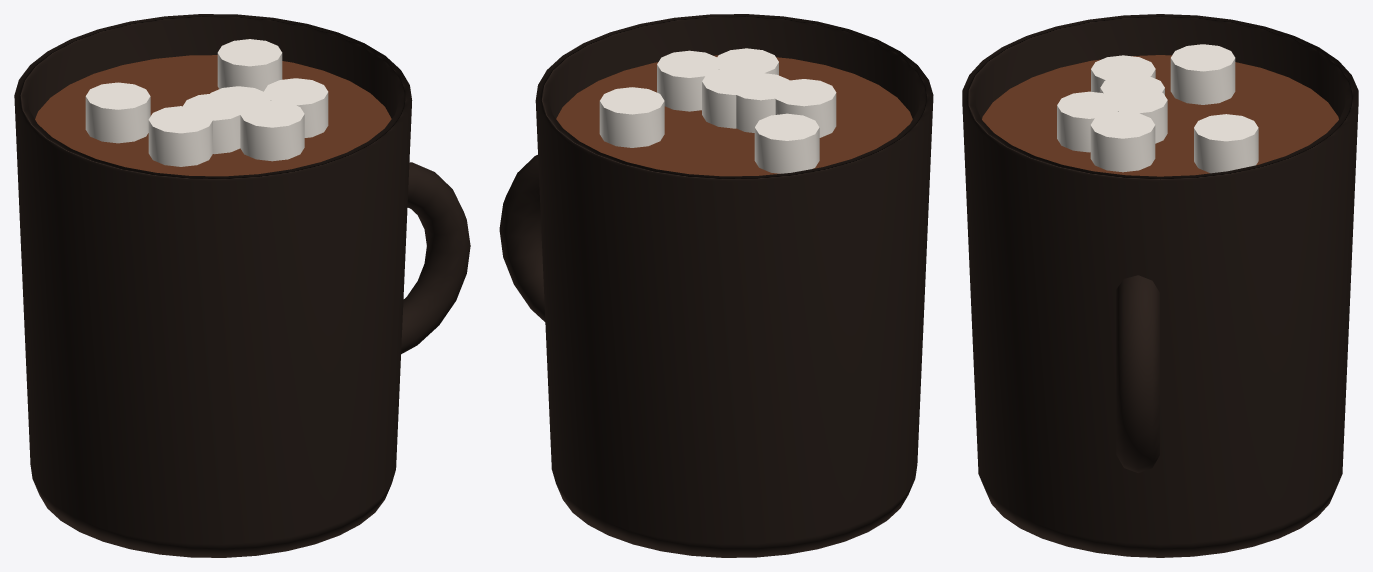
File: cocoa.glb
The picture shows the model from 3 angles, left to right: view 1: azimuth 30°, elevation 25°; view 2: azimuth 150°, elevation 25°; view 3: azimuth 270°, elevation 25°; orthographic projection.
Parts seen in each view (by area): view 1: cocoa; view 2: cocoa; view 3: cocoa.
Boxes of the visible parts, x1,y1,x2,y2 form: cocoa: (14,14,470,557); cocoa: (499,14,933,557); cocoa: (962,14,1358,557).
Size of the model in its own units: 0.1038 by 0.093 by 0.0856.
